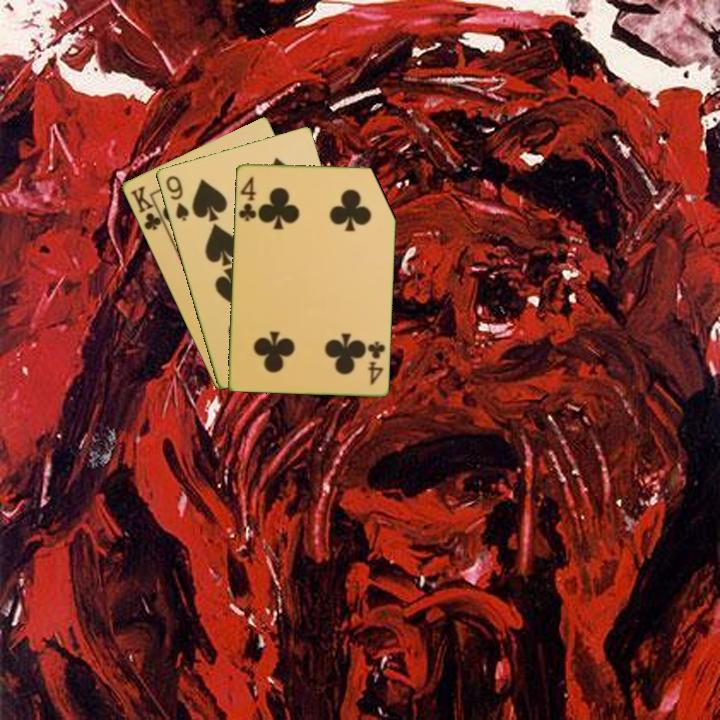4c: (235, 172, 259, 224), (364, 337, 388, 387)
9s: (162, 172, 192, 224)
Kc: (126, 182, 168, 233)
